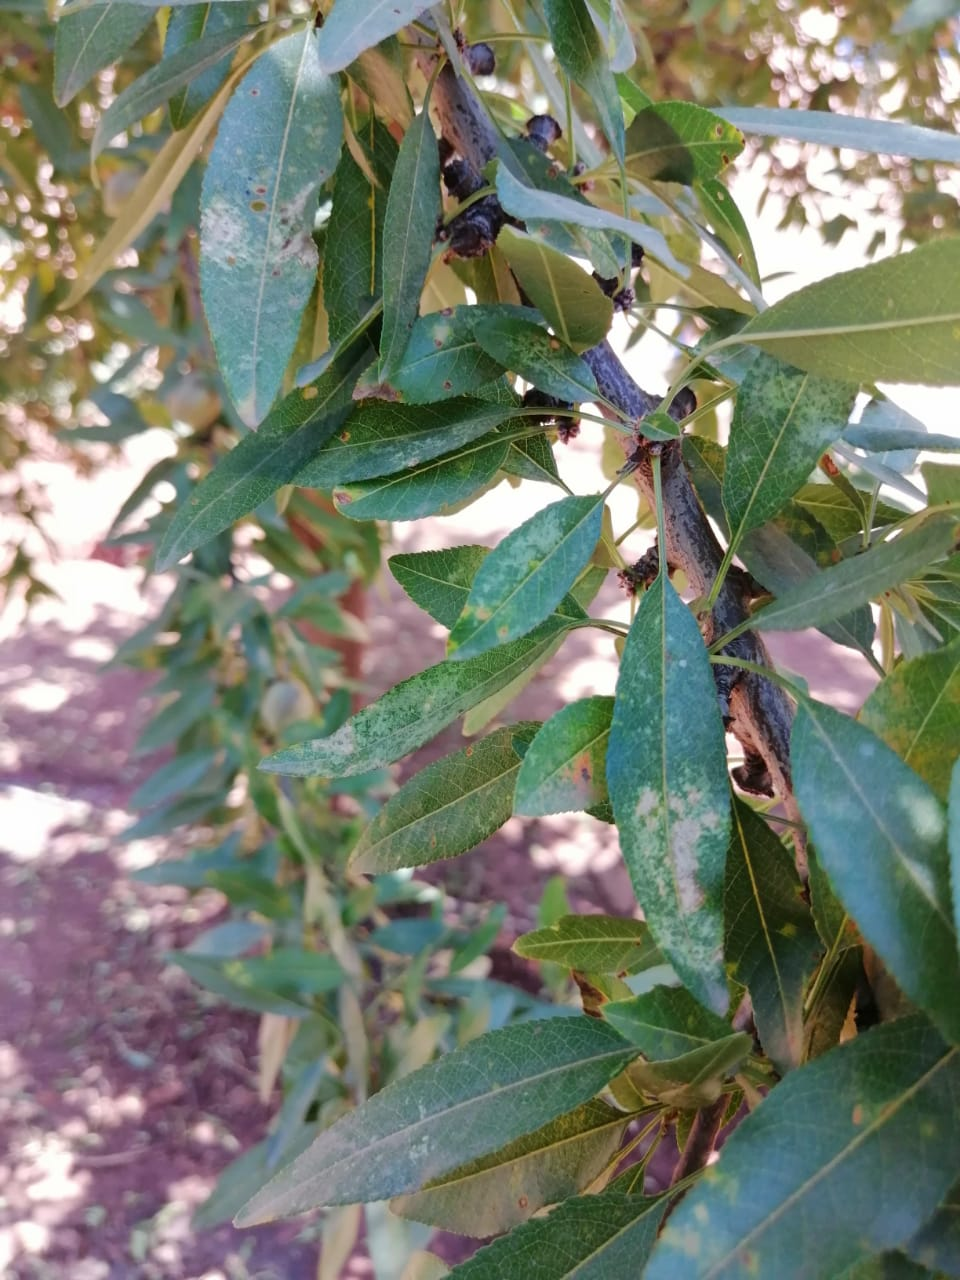faux tigre: (228, 1015, 641, 1227), (199, 31, 346, 434), (606, 572, 733, 1017), (253, 621, 571, 780), (445, 492, 602, 668), (474, 321, 601, 404)
